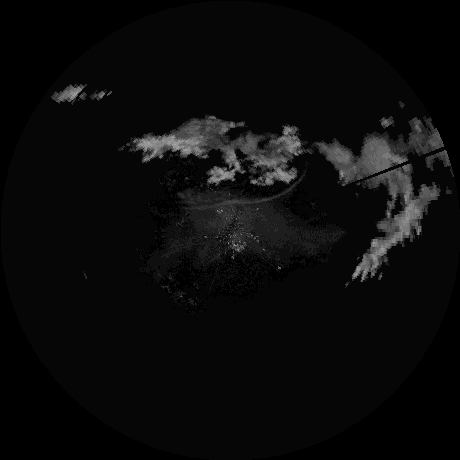frontgust: (187, 174, 305, 211)
